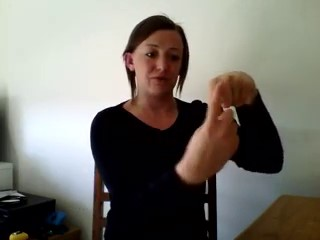K: (179, 67, 260, 182)
